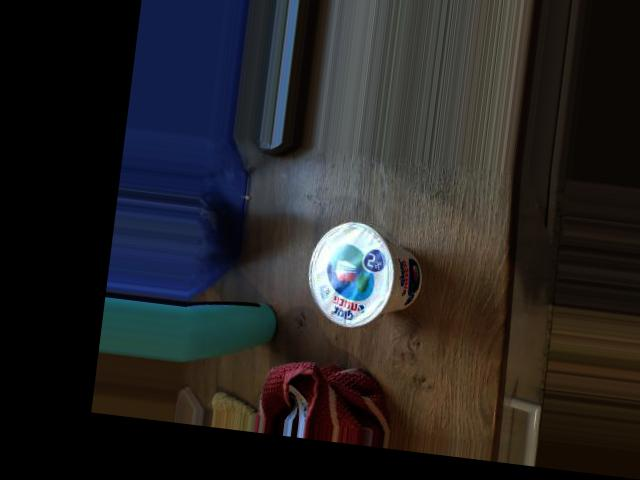cotage: (298, 222, 431, 330)
